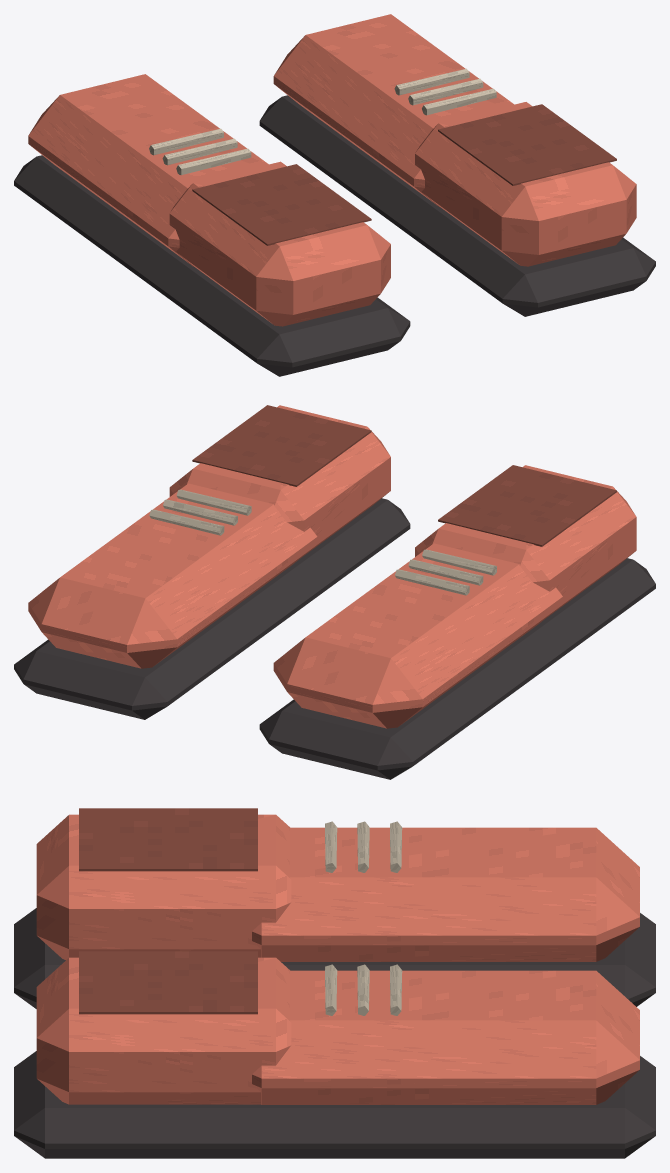
File: clownshoes.glb
3 renders of one model, top to bottom at view 1: azimuth 30°, elevation 25°; view 2: azimuth 150°, elevation 25°; view 3: azimuth 270°, elevation 25°, orthographic. The views are drawn at different scales.
Visible parts, largest first — view 1: block_shaped sole (×2), block_vamp and toe (×2), block_shaft (×2), block_opening (×2), block_lace (×6); view 2: block_vamp and toe (×2), block_shaped sole (×2), block_shaft (×2), block_opening (×2), block_lace (×6); view 3: block_vamp and toe (×2), block_shaft (×2), block_shaped sole (×2), block_opening (×2), block_lace (×6).
Part boxes in pixels (x1=…): block_shaped sole (×2): x1=14, y1=95, x2=655, y2=376; block_vamp and toe (×2): x1=28, y1=14, x2=514, y2=266; block_shaft (×2): x1=169, y1=102, x2=636, y2=326; block_opening (×2): x1=192, y1=104, x2=616, y2=245; block_lace (×6): x1=149, y1=68, x2=496, y2=175; block_vamp and toe (×2): x1=28, y1=483, x2=562, y2=728; block_shaped sole (×2): x1=14, y1=498, x2=655, y2=779; block_shaft (×2): x1=169, y1=405, x2=636, y2=616; block_opening (×2): x1=192, y1=405, x2=616, y2=546; block_lace (×6): x1=149, y1=489, x2=496, y2=595; block_vamp and toe (×2): x1=252, y1=827, x2=639, y2=1104; block_shaft (×2): x1=36, y1=814, x2=291, y2=1104; block_shaped sole (×2): x1=14, y1=908, x2=655, y2=1158; block_opening (×2): x1=79, y1=808, x2=257, y2=1014; block_lace (×6): x1=325, y1=821, x2=402, y2=1015.
Bounding box in the file's own units: 0.2575 × 0.075 × 0.3006.
1 material, 1 textured.
